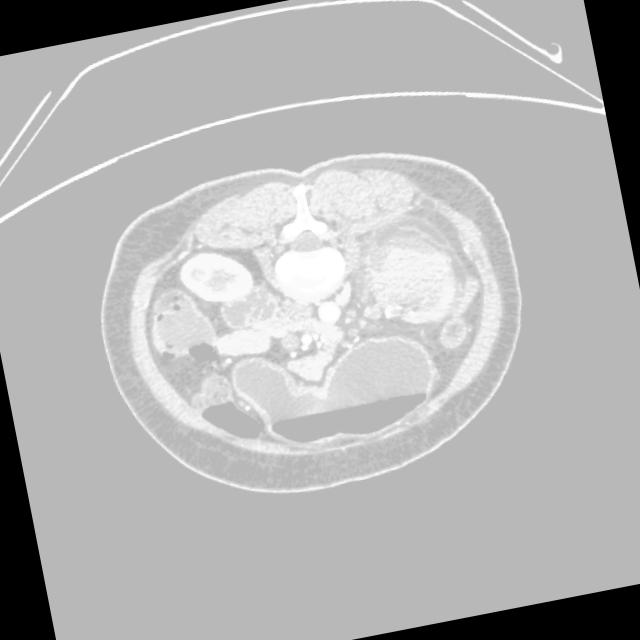TUMOR: (79, 229, 470, 514)
